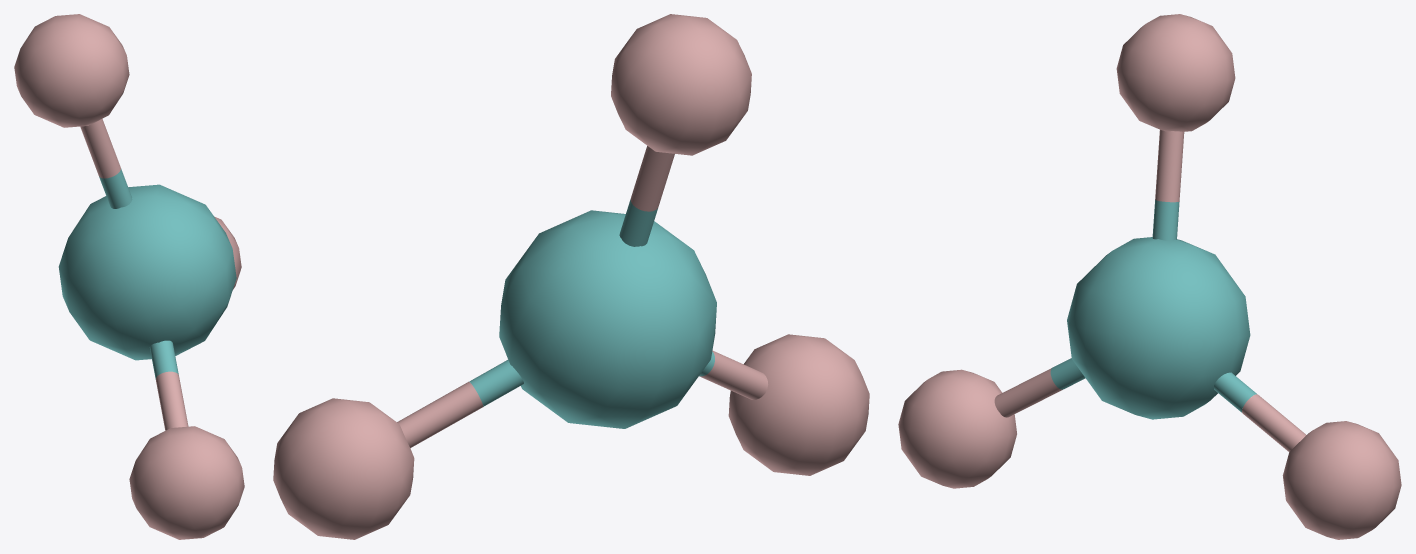
The model's file is ClF3.gltf.
3 renders of one model, left to right at view 1: azimuth 30°, elevation 25°; view 2: azimuth 150°, elevation 25°; view 3: azimuth 270°, elevation 25°, orthographic. The views are drawn at different scales.
Visible parts, largest first — view 1: vmd_mol1_rep0; view 2: vmd_mol1_rep0; view 3: vmd_mol1_rep0.
Part boxes in pixels (left/top/right/bottom): vmd_mol1_rep0: left=14, top=14, right=244, bottom=539; vmd_mol1_rep0: left=273, top=14, right=869, bottom=539; vmd_mol1_rep0: left=898, top=14, right=1401, bottom=539.
Size of the model in its own units: 1.04 by 1.5 by 1.5.
